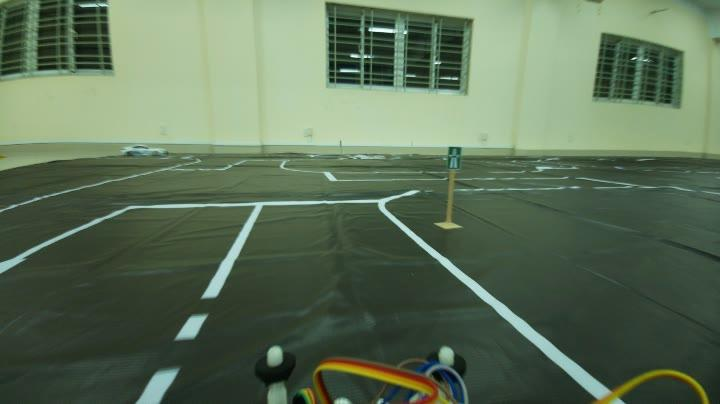highway_entry: (441, 143, 466, 170)
